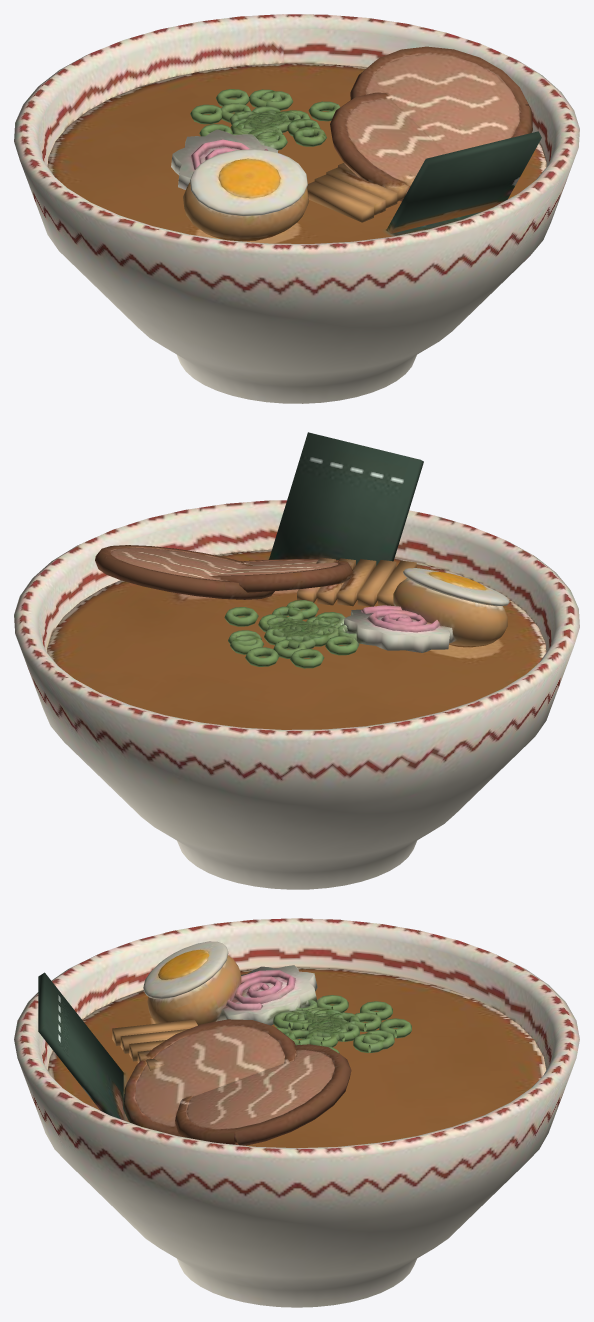
Rendered from ramen_shoyu_nn0.glb.
3 renders of one model, top to bottom at view 1: azimuth 30°, elevation 25°; view 2: azimuth 150°, elevation 25°; view 3: azimuth 270°, elevation 25°, orthographic.
Parts seen in each view (by area): view 1: prop_ramen_shoyu_nn0_felt; view 2: prop_ramen_shoyu_nn0_felt; view 3: prop_ramen_shoyu_nn0_felt.
Boxes of the visible parts, left/top/right/bottom form: prop_ramen_shoyu_nn0_felt: left=14, top=14, right=579, bottom=403; prop_ramen_shoyu_nn0_felt: left=14, top=432, right=579, bottom=889; prop_ramen_shoyu_nn0_felt: left=14, top=918, right=579, bottom=1307.
Bounding box in the file's own units: 0.3 × 0.1674 × 0.3.
Materials: 1 (1 with a texture image).
